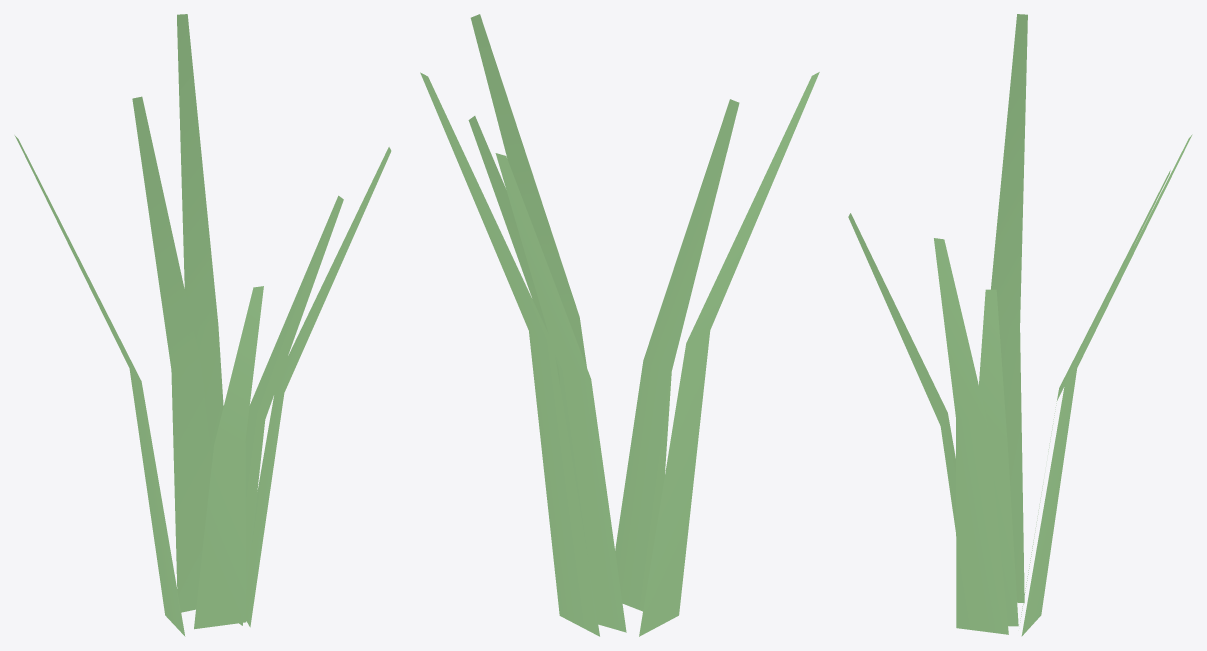
File: prop_grass_tall_a.glb
3 renders of one model, left to right at view 1: azimuth 30°, elevation 25°; view 2: azimuth 150°, elevation 25°; view 3: azimuth 270°, elevation 25°, orthographic. The views are drawn at different scales.
Visible parts, largest first — view 1: SM_TallA_LOD0; view 2: SM_TallA_LOD0; view 3: SM_TallA_LOD0.
Boxes of the visible parts, <box> form: SM_TallA_LOD0: <box>14,14,391,636</box>; SM_TallA_LOD0: <box>420,14,819,636</box>; SM_TallA_LOD0: <box>848,14,1192,636</box>.
Size of what is drawn, in the model's own units: 0.983 by 1.45 by 0.8776.
